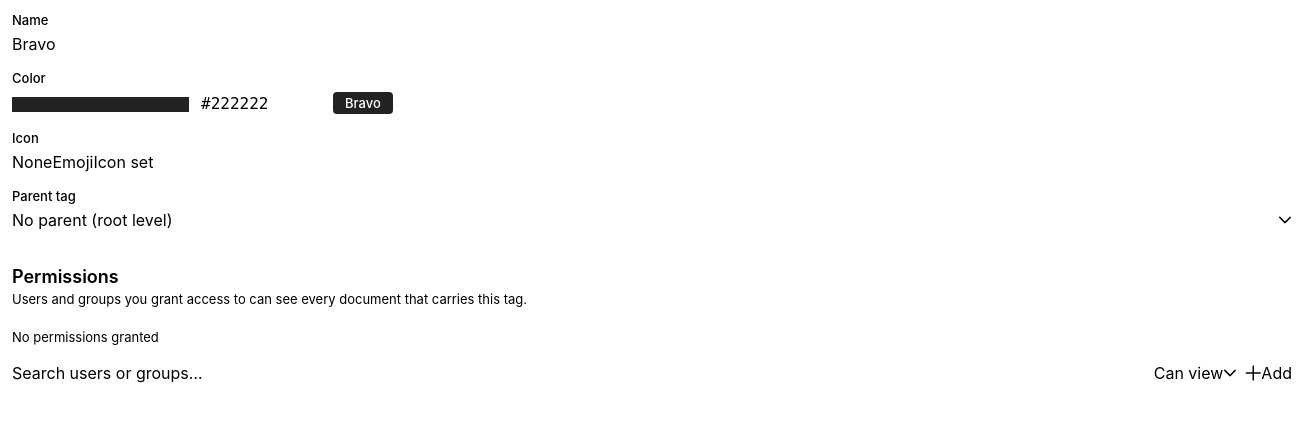
it: TagForm — the manual hex code field (#303) › refuses a bare 3-digit code — not one of the three forms it offers
Replace the text in the field with id "tag-color-hex" with "F0A" at (261, 103), box x1=201 y1=94 x2=321 y2=113
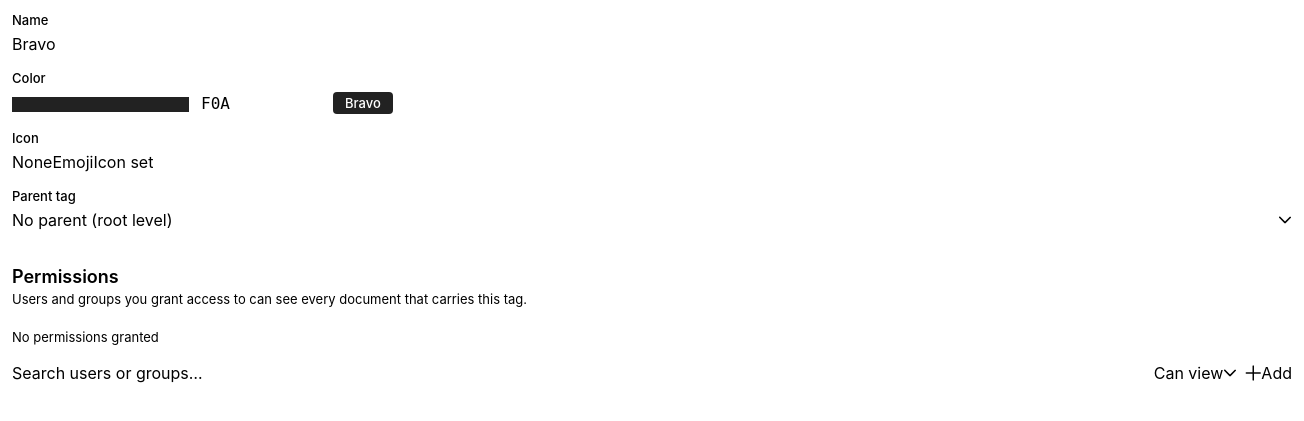
Leave the field with id "tag-color-hex", box x1=201 y1=94 x2=321 y2=113
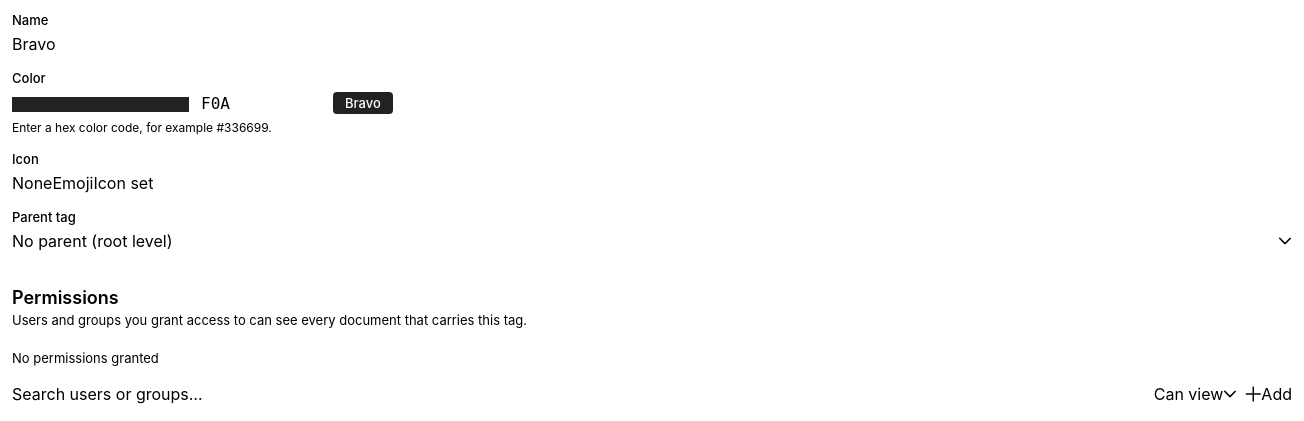
Expected: the message "Enter a hex color code, for example #336699." is shown, x1=12 y1=120 x2=272 y2=135
